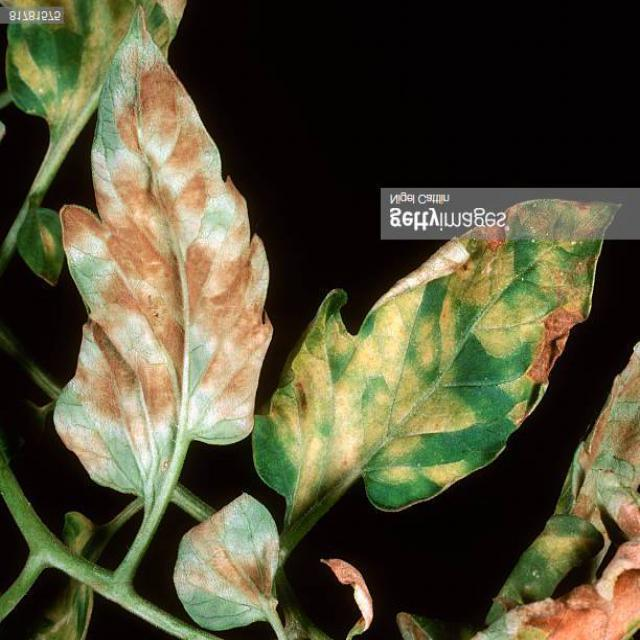Leaf Mold: (264, 170, 606, 523), (37, 12, 272, 520)
